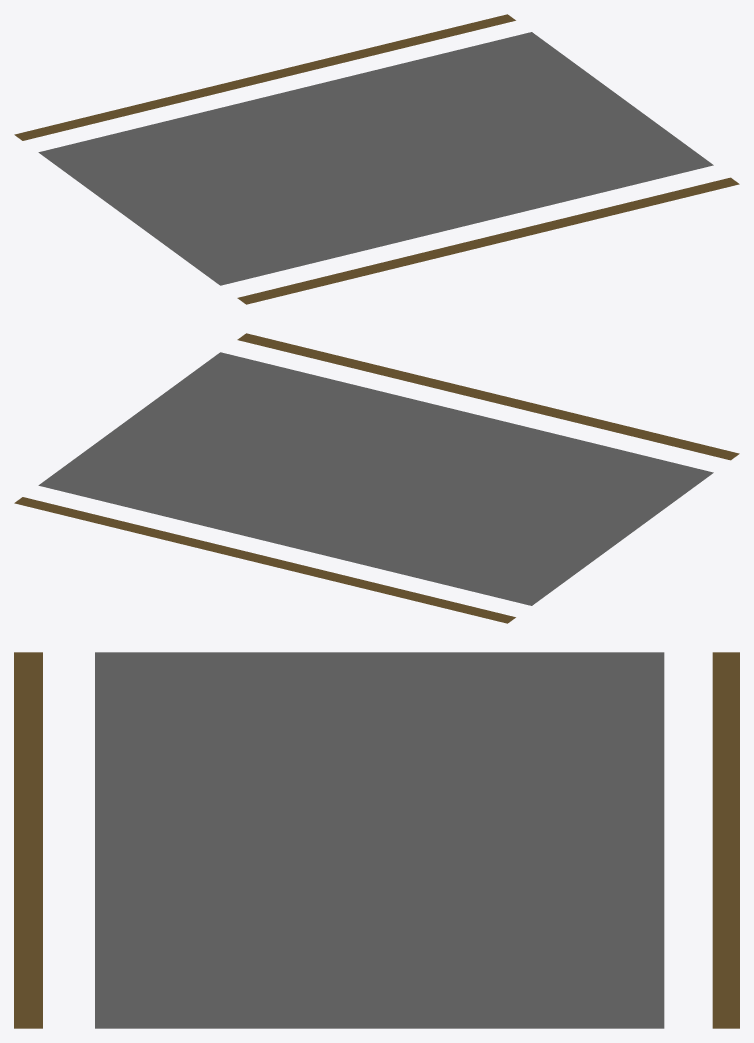
Rendered from ship-canal-straight.dae.
3 renders of one model, top to bottom at view 1: azimuth 30°, elevation 25°; view 2: azimuth 150°, elevation 25°; view 3: azimuth 270°, elevation 25°, orthographic. The views are drawn at different scales.
Visible parts, largest first — view 1: Plane_002, Plane_008; view 2: Plane_002, Plane_008; view 3: Plane_002, Plane_008.
Part boxes in pixels (bbox=[...]): Plane_002: bbox=[38, 14, 739, 285]; Plane_008: bbox=[14, 25, 690, 304]; Plane_002: bbox=[14, 333, 713, 605]; Plane_008: bbox=[59, 344, 739, 623]; Plane_002: bbox=[14, 652, 739, 1028]; Plane_008: bbox=[14, 652, 739, 994].
Size of the model in its own units: 9 by 7.33 by 0.
